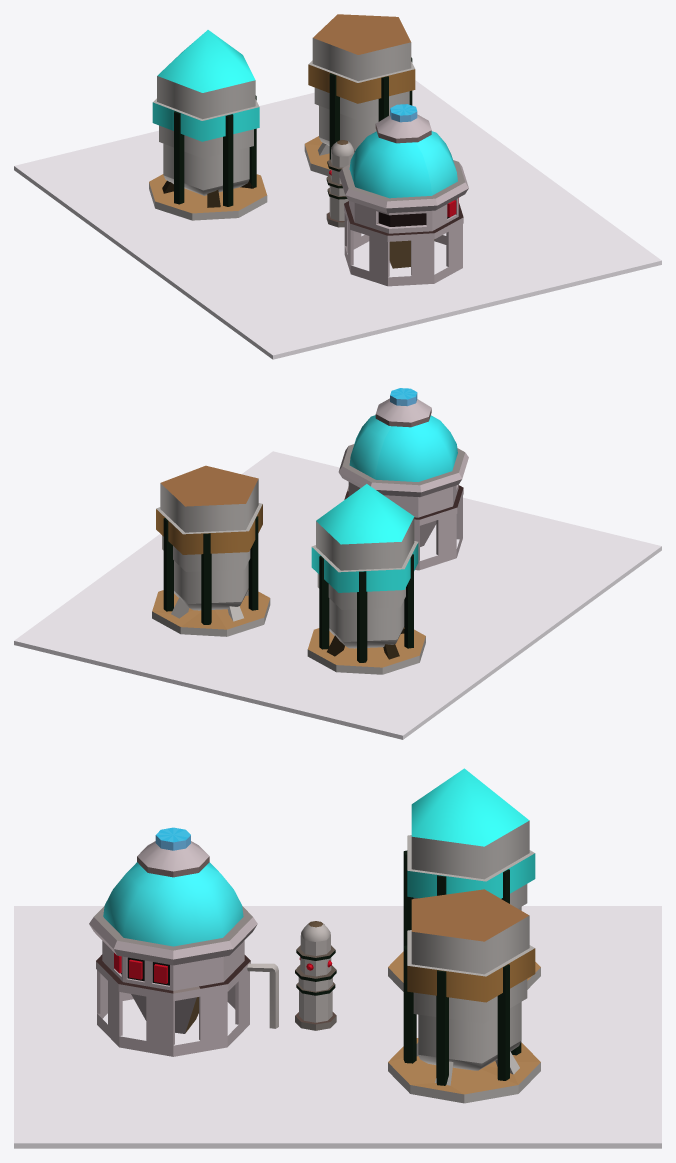
The model's file is Clear water  2.fbx.
The picture shows the model from 3 angles, top to bottom: view 1: azimuth 30°, elevation 25°; view 2: azimuth 150°, elevation 25°; view 3: azimuth 270°, elevation 25°; orthographic projection. The views are drawn at different scales.
Visible parts, largest first — view 1: Cube.001, Cylinder.007, Cylinder.008, Cylinder.013, Cylinder.009, Cylinder.010, Cylinder.006, Cylinder.012, Cylinder.011; view 2: Cube.001, Cylinder.007, Cylinder.008, Cylinder.013, Cylinder.009, Cylinder.011, Cylinder.012, Cylinder.010; view 3: Cube.001, Cylinder.007, Cylinder.013, Cylinder.008, Cylinder.011, Cylinder.012, Cylinder.006, Cylinder.010, Cylinder.004, Cylinder.009.
Part boxes in pixels (<box>): Cube.001: <box>14,80,661,359</box>; Cylinder.007: <box>338,104,468,286</box>; Cylinder.008: <box>152,30,259,195</box>; Cylinder.013: <box>308,14,415,152</box>; Cylinder.009: <box>149,174,267,220</box>; Cylinder.010: <box>174,95,256,206</box>; Cylinder.006: <box>326,140,354,227</box>; Cylinder.012: <box>329,57,412,159</box>; Cylinder.011: <box>304,136,330,176</box>; Cube.001: <box>14,451,661,739</box>; Cylinder.007: <box>338,388,468,570</box>; Cylinder.008: <box>311,484,418,648</box>; Cylinder.013: <box>156,465,262,610</box>; Cylinder.009: <box>307,627,425,674</box>; Cylinder.011: <box>152,590,270,636</box>; Cylinder.012: <box>163,516,258,624</box>; Cylinder.010: <box>319,554,413,662</box>; Cube.001: <box>14,906,661,1148</box>; Cylinder.007: <box>89,827,257,1056</box>; Cylinder.013: <box>407,889,535,1070</box>; Cylinder.008: <box>407,768,535,910</box>; Cylinder.011: <box>388,1038,540,1103</box>; Cylinder.012: <box>403,945,521,1085</box>; Cylinder.006: <box>295,921,336,1030</box>; Cylinder.010: <box>403,850,509,945</box>; Cylinder.004: <box>247,963,278,1028</box>; Cylinder.009: <box>388,951,540,991</box>.
Bounding box in the file's own units: 734 × 307 × 847.
